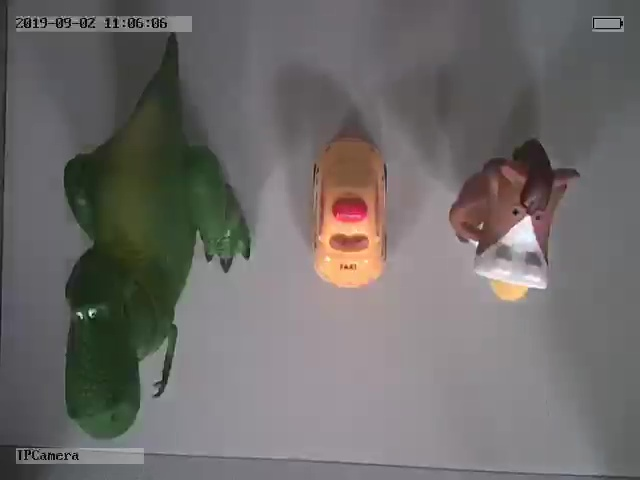car: (311, 133, 390, 289)
horse: (448, 139, 582, 302)
rex: (62, 52, 251, 441)
